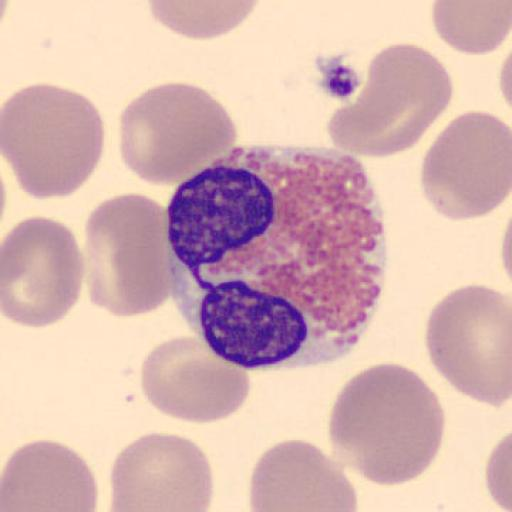RBC: (327, 360, 447, 488), (325, 41, 454, 159), (0, 80, 107, 202), (118, 81, 238, 187), (82, 190, 175, 320), (424, 282, 512, 408), (420, 109, 512, 222), (139, 336, 252, 424), (2, 214, 86, 329), (108, 430, 216, 512), (247, 437, 359, 512), (1, 437, 99, 512), (146, 0, 262, 41), (431, 0, 512, 56), (485, 429, 512, 512), (499, 204, 512, 288), (498, 38, 512, 110), (0, 0, 8, 49)
WBC: (167, 147, 391, 372)
